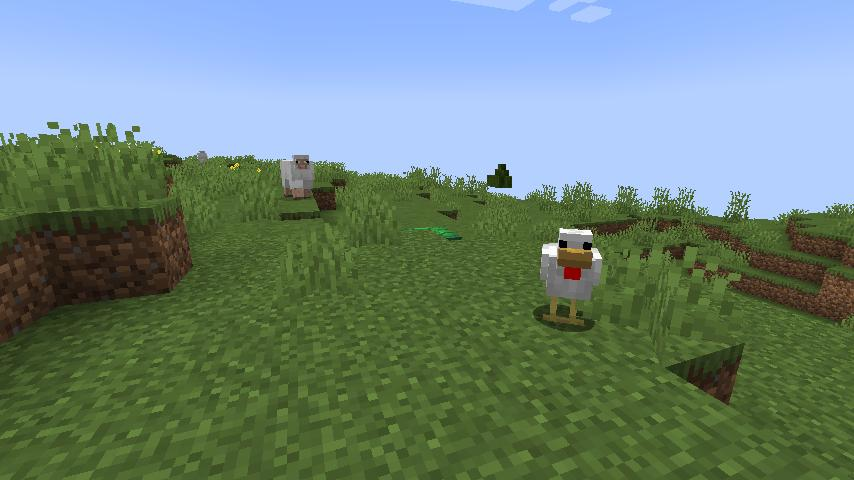chicken: (531, 222, 610, 331)
sheep: (279, 151, 319, 202)
turtle: (401, 223, 463, 242)
